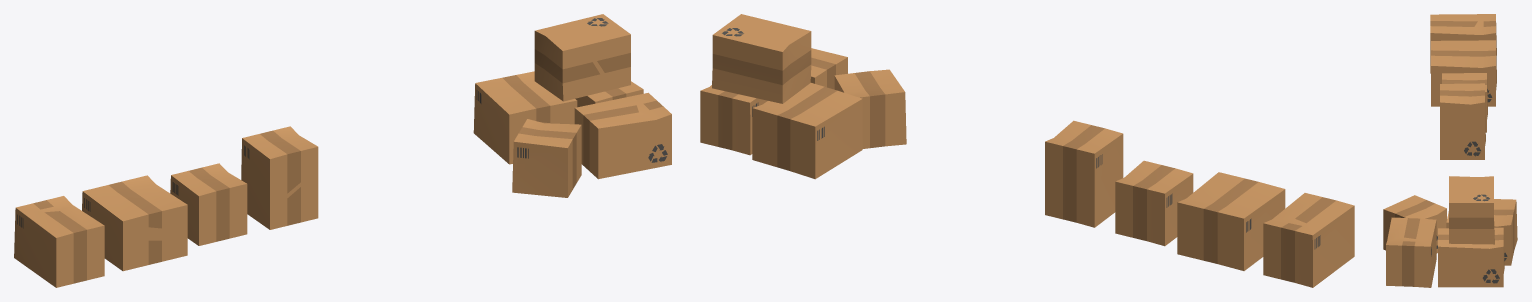
Rendered from CardBoardBoxes.fbx.
3 renders of one model, left to right at view 1: azimuth 30°, elevation 25°; view 2: azimuth 150°, elevation 25°; view 3: azimuth 270°, elevation 25°, orthographic. The views are drawn at different scales.
Visible parts, largest first — view 1: Cardboard Box_1, Cardboard Box_3.001, Cardboard Box_3, Cardboard Box_4.002, Cardboard Box_4, Cardboard Box_1.001, Cardboard Box_2.001, Cardboard Box_2, Cardboard Box_4.001; view 2: Cardboard Box_1.001, Cardboard Box_1, Cardboard Box_3.001, Cardboard Box_3, Cardboard Box_4, Cardboard Box_2, Cardboard Box_2.001, Cardboard Box_4.001, Cardboard Box_4.002; view 3: Cardboard Box_3, Cardboard Box_4.002, Cardboard Box_4.001, Cardboard Box_3.001, Cardboard Box_1, Cardboard Box_4, Cardboard Box_2.001, Cardboard Box_1.001, Cardboard Box_2.
Part boxes in pixels (left/top/right/bottom): Cardboard Box_1: left=82, top=175, right=187, bottom=271; Cardboard Box_3.001: left=534, top=14, right=630, bottom=101; Cardboard Box_3: left=241, top=126, right=318, bottom=229; Cardboard Box_4.002: left=574, top=92, right=671, bottom=179; Cardboard Box_4: left=14, top=196, right=104, bottom=287; Cardboard Box_1.001: left=473, top=71, right=577, bottom=164; Cardboard Box_2.001: left=512, top=119, right=581, bottom=197; Cardboard Box_2: left=170, top=163, right=247, bottom=245; Cardboard Box_4.001: left=575, top=81, right=643, bottom=107; Cardboard Box_1.001: left=752, top=83, right=862, bottom=179; Cardboard Box_1: left=1177, top=172, right=1285, bottom=270; Cardboard Box_3.001: left=712, top=14, right=811, bottom=103; Cardboard Box_3: left=1045, top=120, right=1123, bottom=227; Cardboard Box_4: left=1263, top=193, right=1354, bottom=287; Cardboard Box_2: left=1115, top=160, right=1193, bottom=246; Cardboard Box_2.001: left=834, top=69, right=906, bottom=148; Cardboard Box_4.001: left=700, top=85, right=767, bottom=155; Cardboard Box_4.002: left=810, top=48, right=847, bottom=89; Cardboard Box_3: left=1440, top=83, right=1485, bottom=159; Cardboard Box_4.002: left=1386, top=217, right=1436, bottom=287; Cardboard Box_4.001: left=1438, top=227, right=1504, bottom=287; Cardboard Box_3.001: left=1449, top=176, right=1494, bottom=244; Cardboard Box_1: left=1431, top=40, right=1496, bottom=106; Cardboard Box_4: left=1430, top=14, right=1496, bottom=73; Cardboard Box_2.001: left=1383, top=195, right=1446, bottom=253; Cardboard Box_1.001: left=1446, top=199, right=1517, bottom=265; Cardboard Box_2: left=1442, top=73, right=1487, bottom=132.
Bounding box in the file's own units: 608 × 106 × 148.
